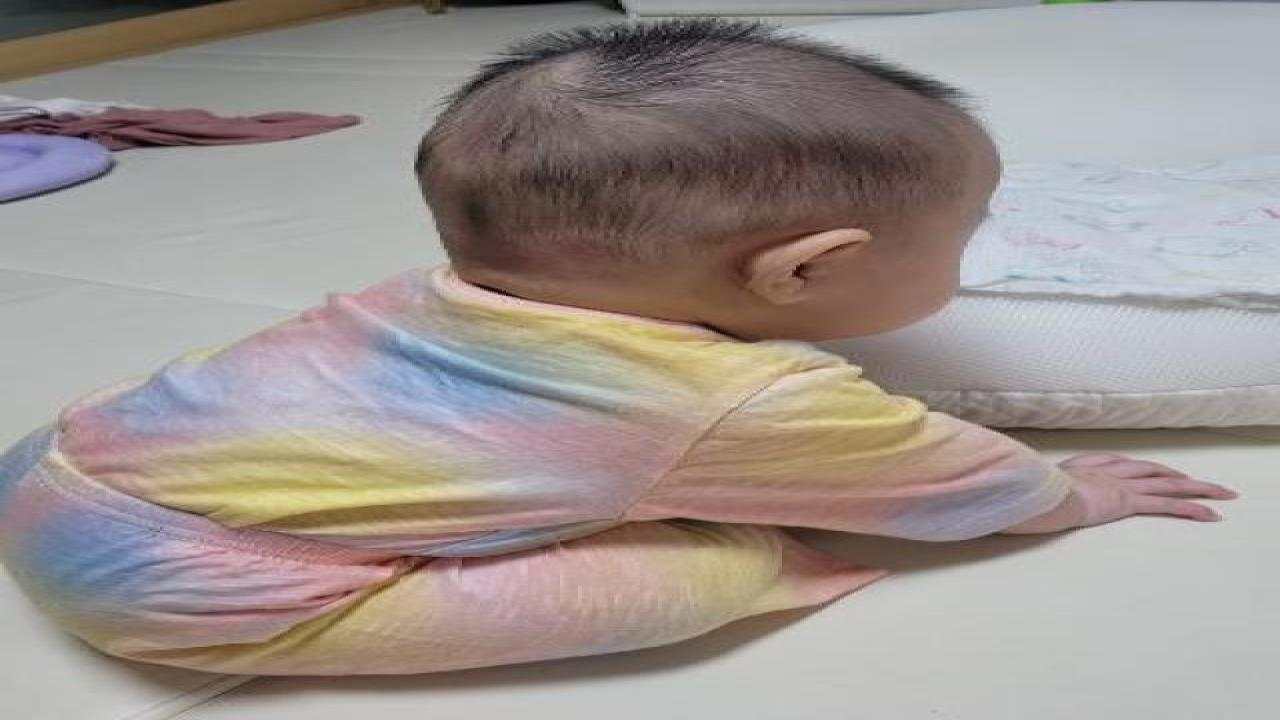hand: (1049, 450, 1236, 524)
